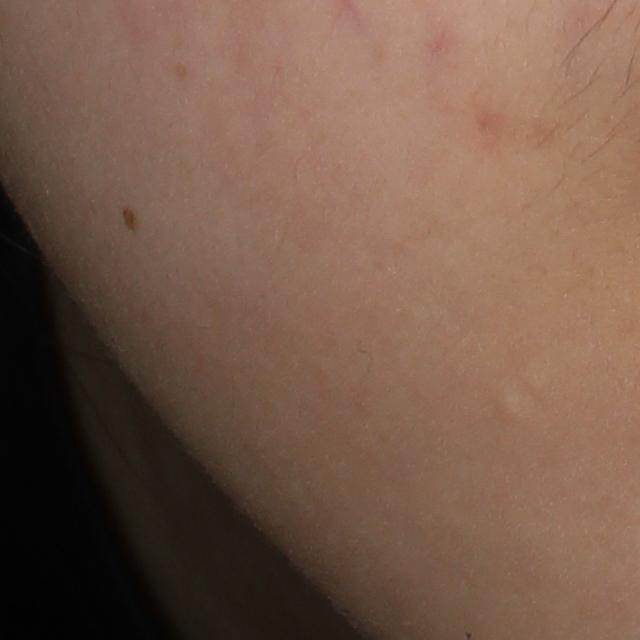comedo: (498, 391, 522, 419), (527, 368, 547, 392)
nevus: (119, 205, 140, 230)
